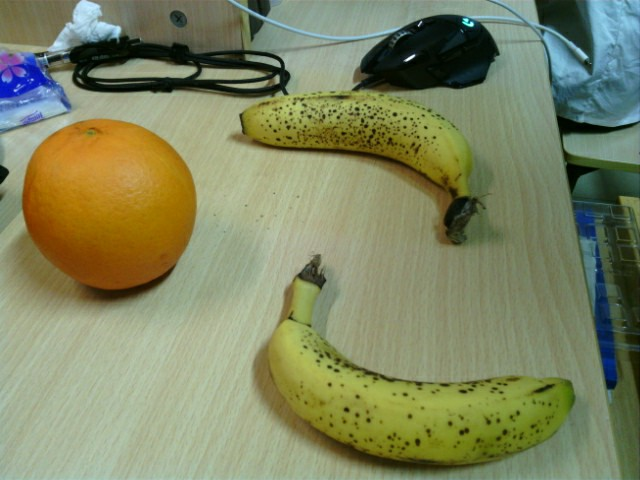normal_banana: (267, 255, 577, 465), (239, 90, 486, 248)
normal_orange: (23, 118, 196, 288)
